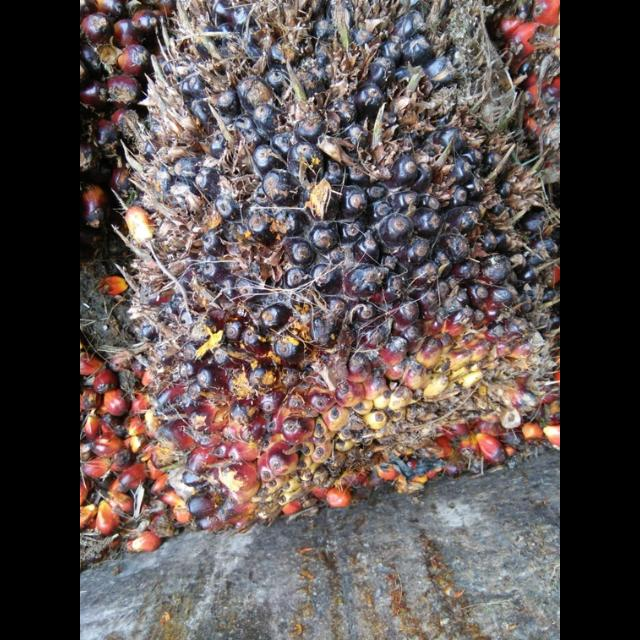Unripe: (80, 0, 559, 569)
